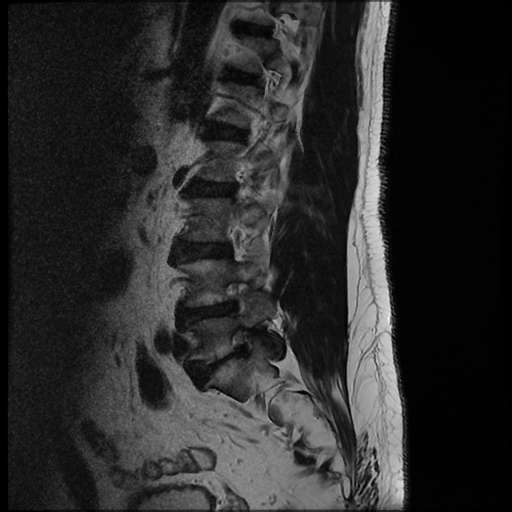LFS3: (218, 324, 273, 370)
